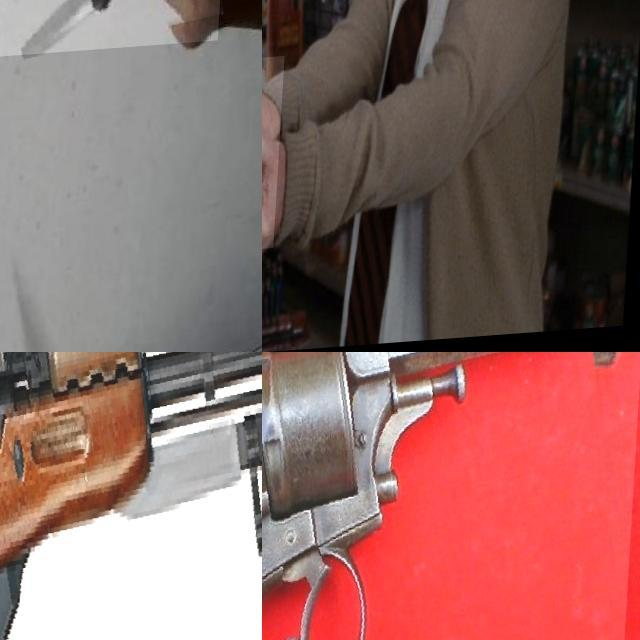-: (0, 0, 227, 84)
gun-knife-thesis - v11 Yolov5 augmented: (262, 352, 640, 640), (0, 352, 262, 640), (262, 60, 331, 260)
